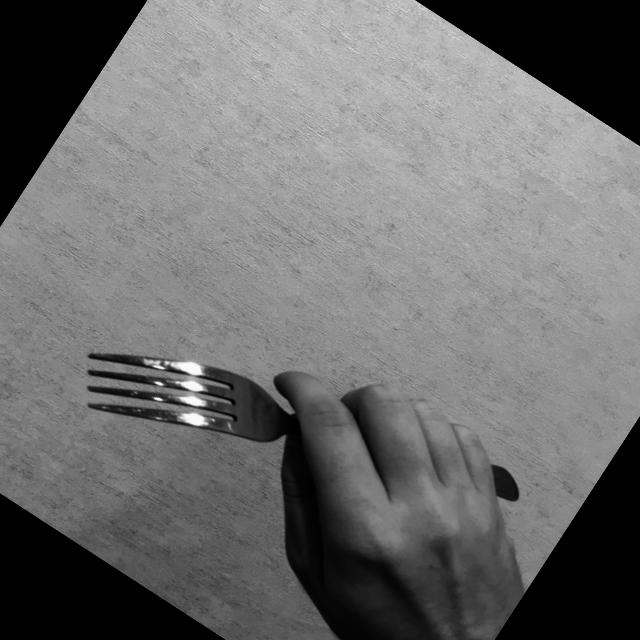fork: (63, 242, 530, 632)
